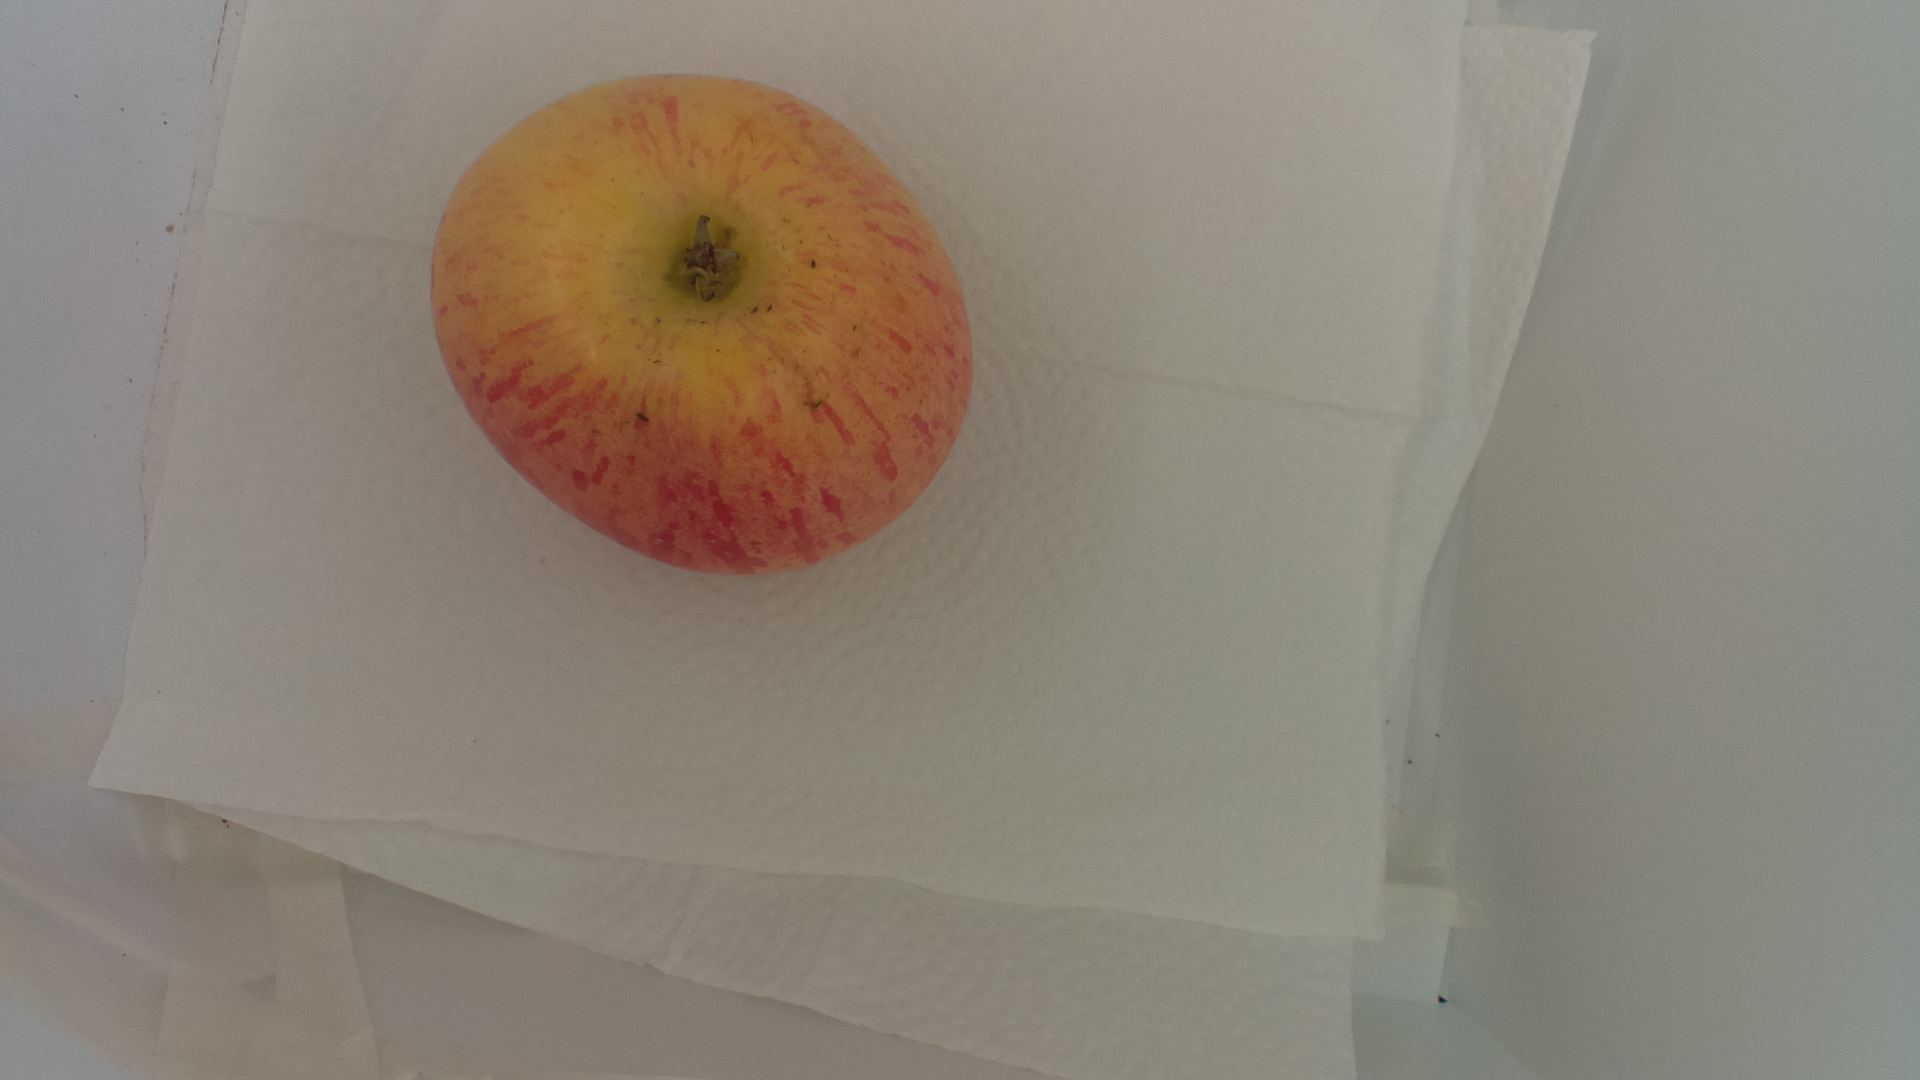fruit: (422, 71, 980, 585)
